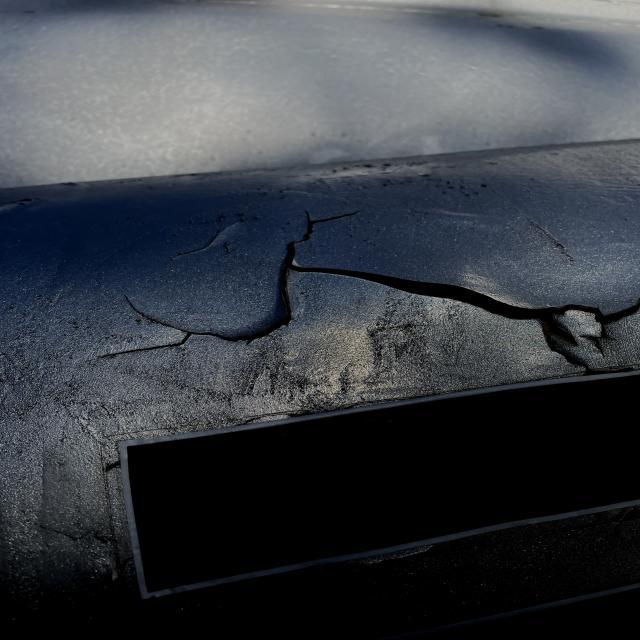crack: (281, 222, 640, 329), (102, 292, 311, 370), (174, 223, 254, 265)
